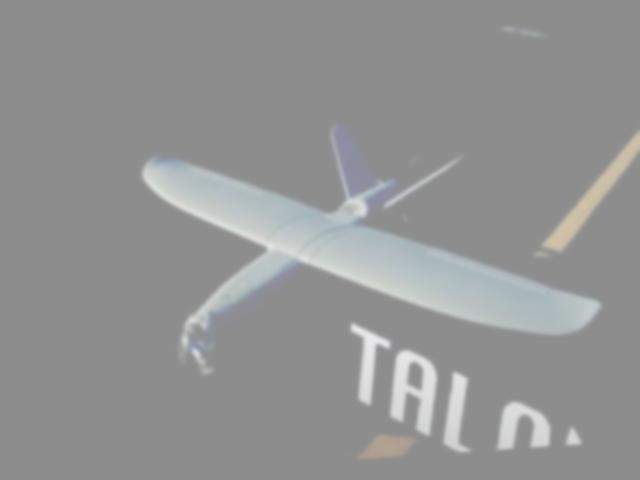iha: (97, 78, 640, 455)
